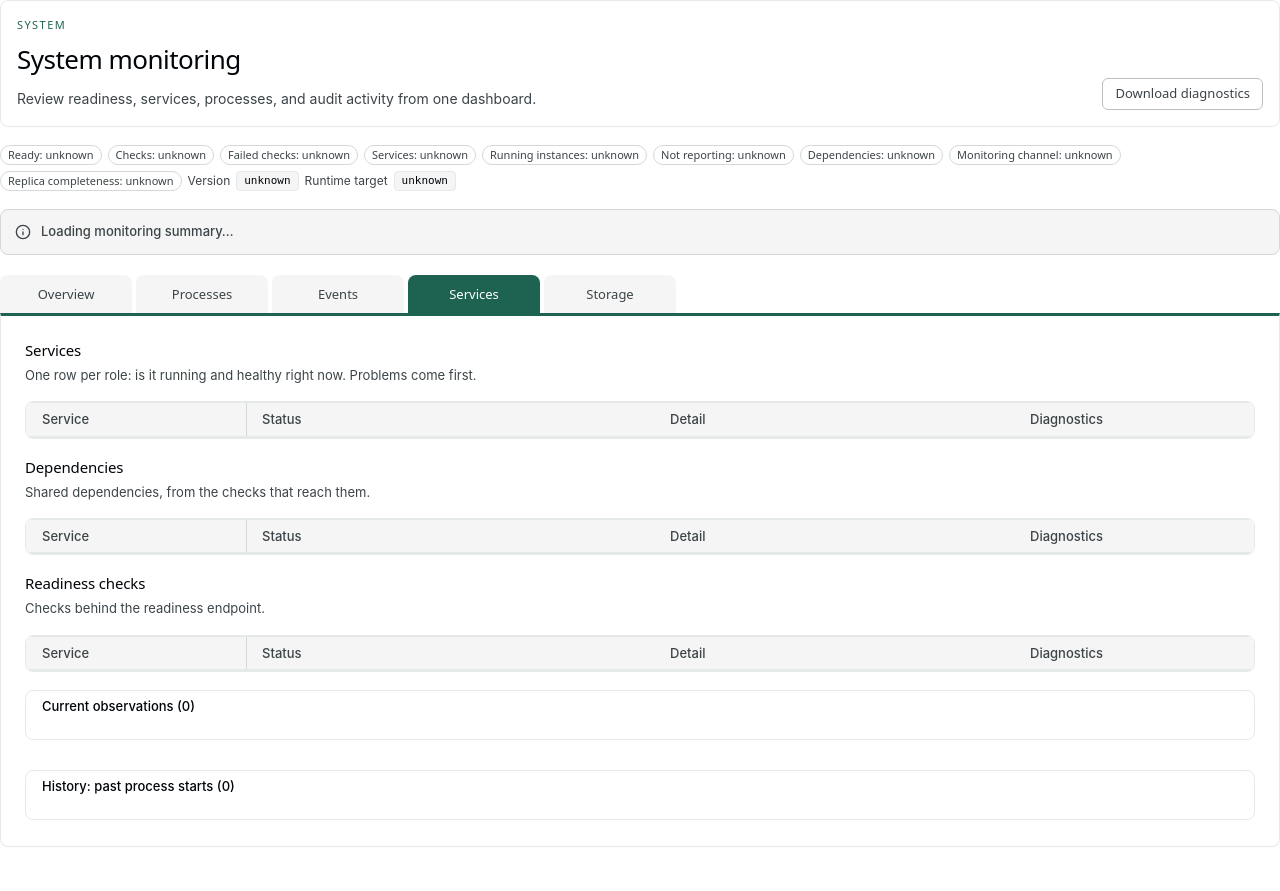
MonitoringPage › downloads the installation diagnostic report from the page header
Click the button "Download diagnostics". click: (1183, 94)
box: [1102,78,1263,110]
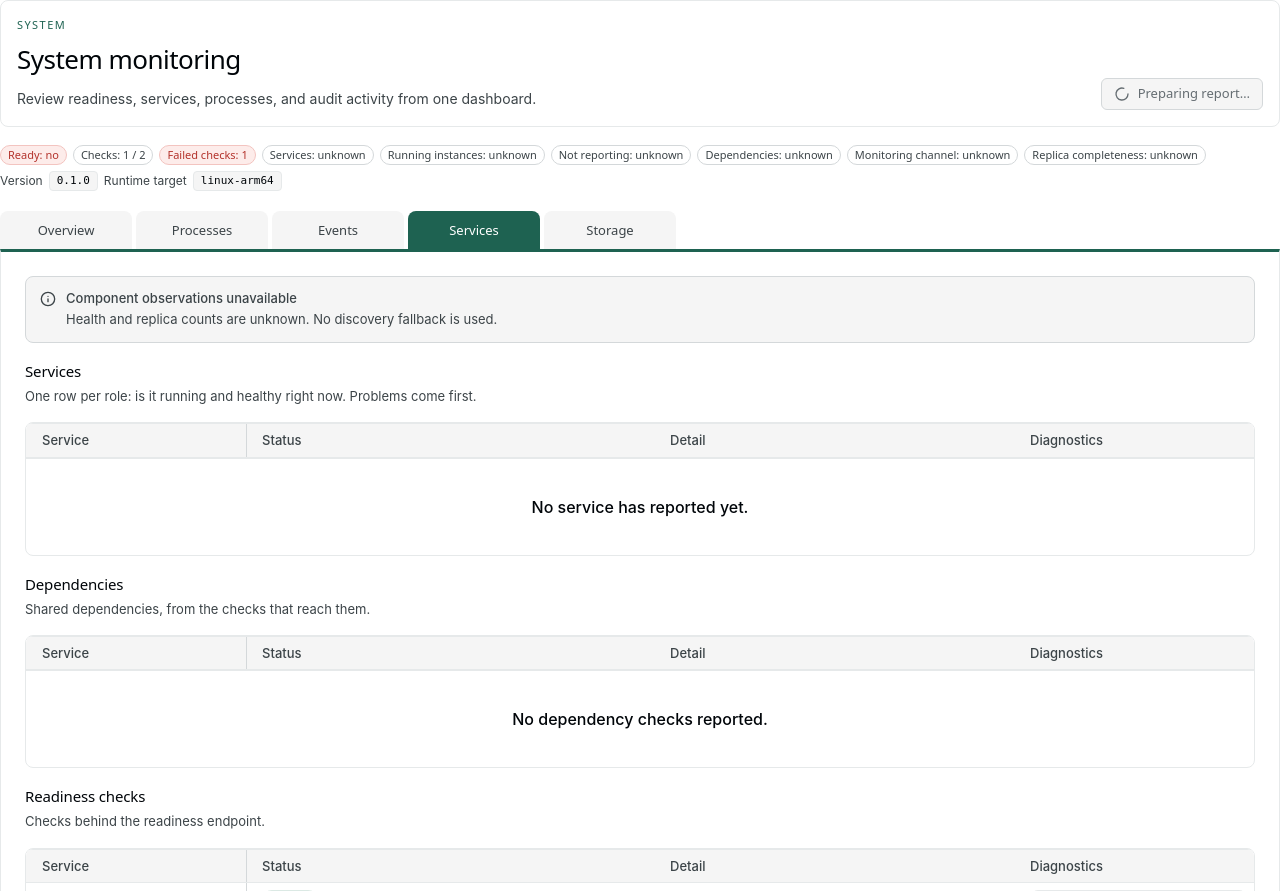
expect the button "Preparing report…" is disabled: met, box [1101,78,1263,110]
